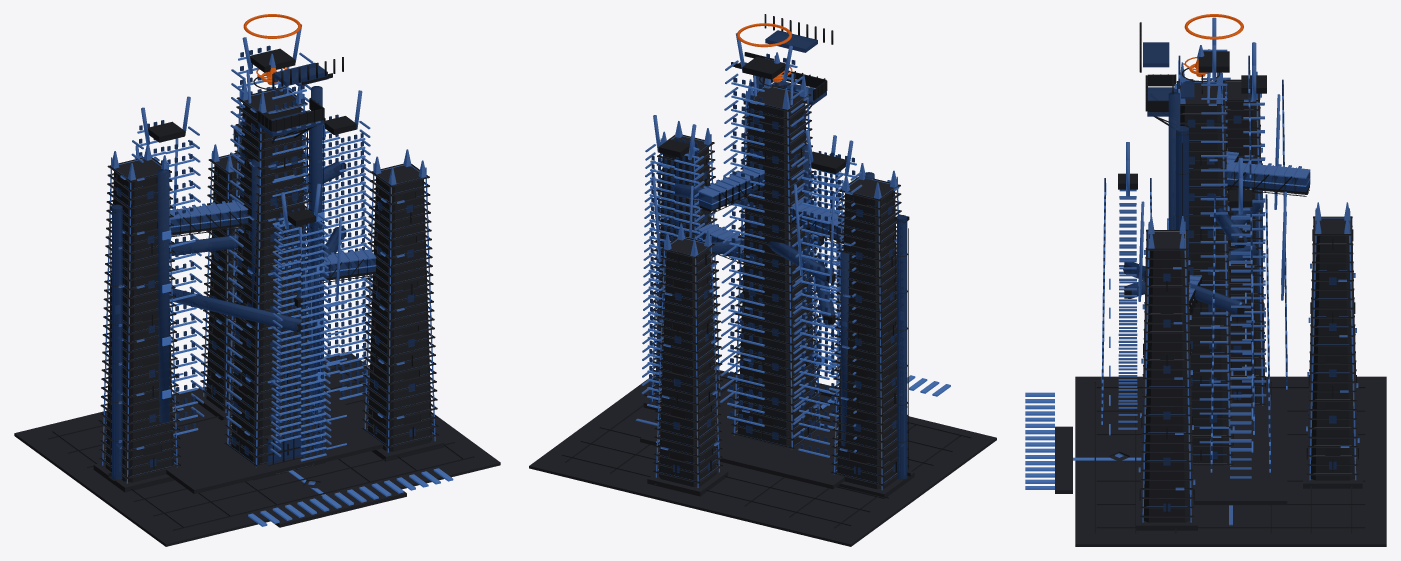
The model's file is career-ext-hero.glb.
The picture shows the model from 3 angles, left to right: view 1: azimuth 30°, elevation 25°; view 2: azimuth 150°, elevation 25°; view 3: azimuth 270°, elevation 25°; orthographic projection. The views are drawn at different scales.
Visible parts, largest first — view 1: career_s86_base_hero_mesh, career_s86_glass_hero_mesh, career_s86_emissive_hero_mesh, career_s86_accent_hero_mesh, career_s86_detail_hero_mesh, career_s86_energy_hero_mesh; view 2: career_s86_base_hero_mesh, career_s86_glass_hero_mesh, career_s86_accent_hero_mesh, career_s86_emissive_hero_mesh, career_s86_detail_hero_mesh; view 3: career_s86_base_hero_mesh, career_s86_accent_hero_mesh, career_s86_glass_hero_mesh, career_s86_detail_hero_mesh, career_s86_emissive_hero_mesh, career_s86_energy_hero_mesh.
Boxes of the visible parts, x1=… form: career_s86_base_hero_mesh: x1=14, y1=88, x2=500, y2=546; career_s86_glass_hero_mesh: x1=111, y1=45, x2=415, y2=479; career_s86_emissive_hero_mesh: x1=104, y1=50, x2=453, y2=526; career_s86_accent_hero_mesh: x1=102, y1=24, x2=435, y2=484; career_s86_detail_hero_mesh: x1=48, y1=48, x2=474, y2=530; career_s86_energy_hero_mesh: x1=243, y1=14, x2=301, y2=84; career_s86_base_hero_mesh: x1=529, y1=85, x2=996, y2=546; career_s86_glass_hero_mesh: x1=649, y1=30, x2=907, y2=479; career_s86_accent_hero_mesh: x1=635, y1=33, x2=899, y2=490; career_s86_emissive_hero_mesh: x1=647, y1=58, x2=950, y2=483; career_s86_detail_hero_mesh: x1=561, y1=14, x2=971, y2=528; career_s86_base_hero_mesh: x1=1055, y1=79, x2=1386, y2=546; career_s86_accent_hero_mesh: x1=1115, y1=17, x2=1359, y2=525; career_s86_glass_hero_mesh: x1=1101, y1=42, x2=1355, y2=511; career_s86_detail_hero_mesh: x1=1094, y1=22, x2=1365, y2=533; career_s86_emissive_hero_mesh: x1=1025, y1=60, x2=1351, y2=506; career_s86_energy_hero_mesh: x1=1183, y1=14, x2=1243, y2=76.
Size of the model in its own units: 15.8 by 19.38 by 14.4.
